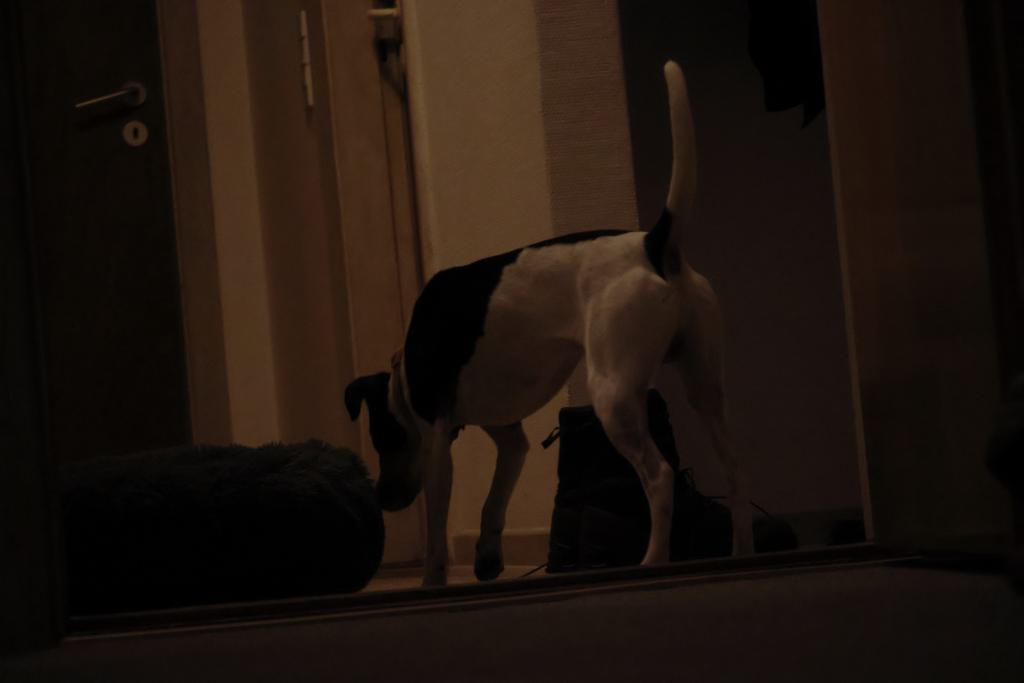Dog: (329, 48, 768, 594)
